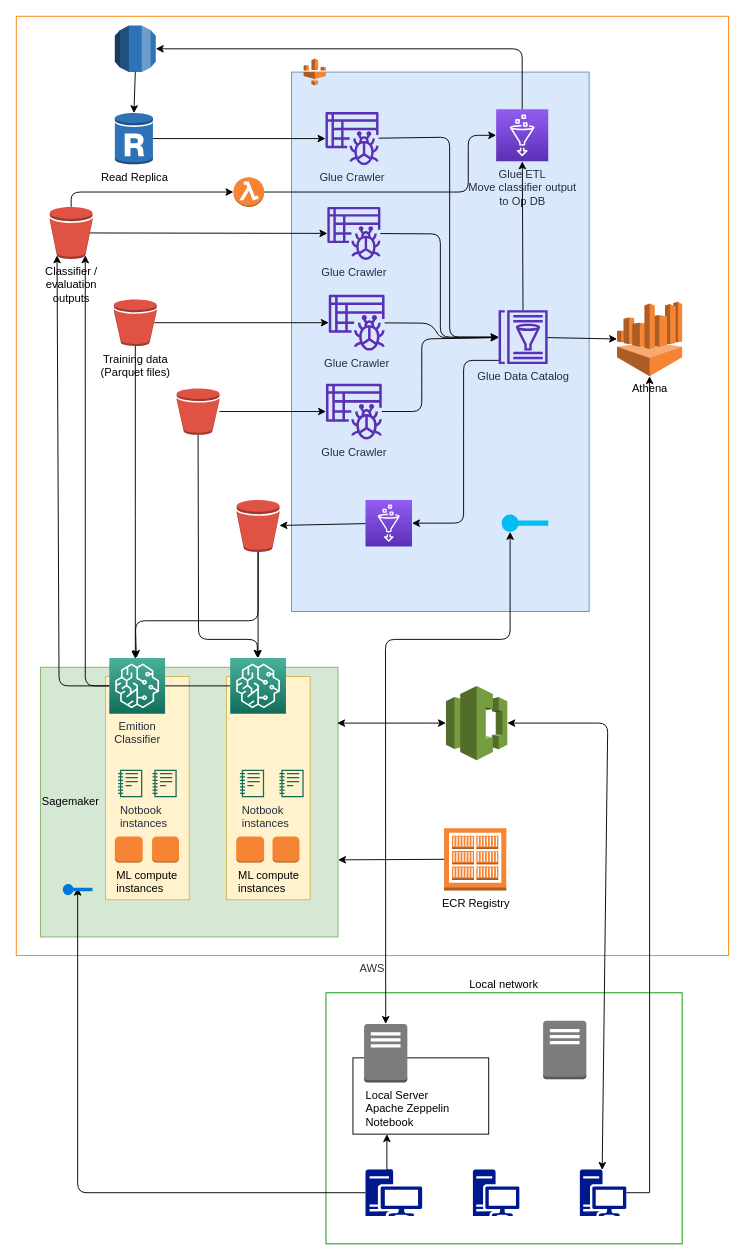
Some shapes in this 745 by 1260 pixel diagram are drawn without their labels. Each missing label, with the centre of its shape:
AdHoc: (197,411)
CodeCommit (Git Repos): (476,722)
Glue: (314,72)
Glue Development Endpoint: (524,522)
Glue ETL Preprocess training data (e.g. subset data / join with Op DB): (388,522)
Media Classifier: (257,685)
Preprocessed (transformed / cleaned / enriched / joined / subsetted) data: (257,525)
RDS Operational DB: (135,48)
Sagemaker Endpoint: (77,889)
Workstations: (393,1192)
